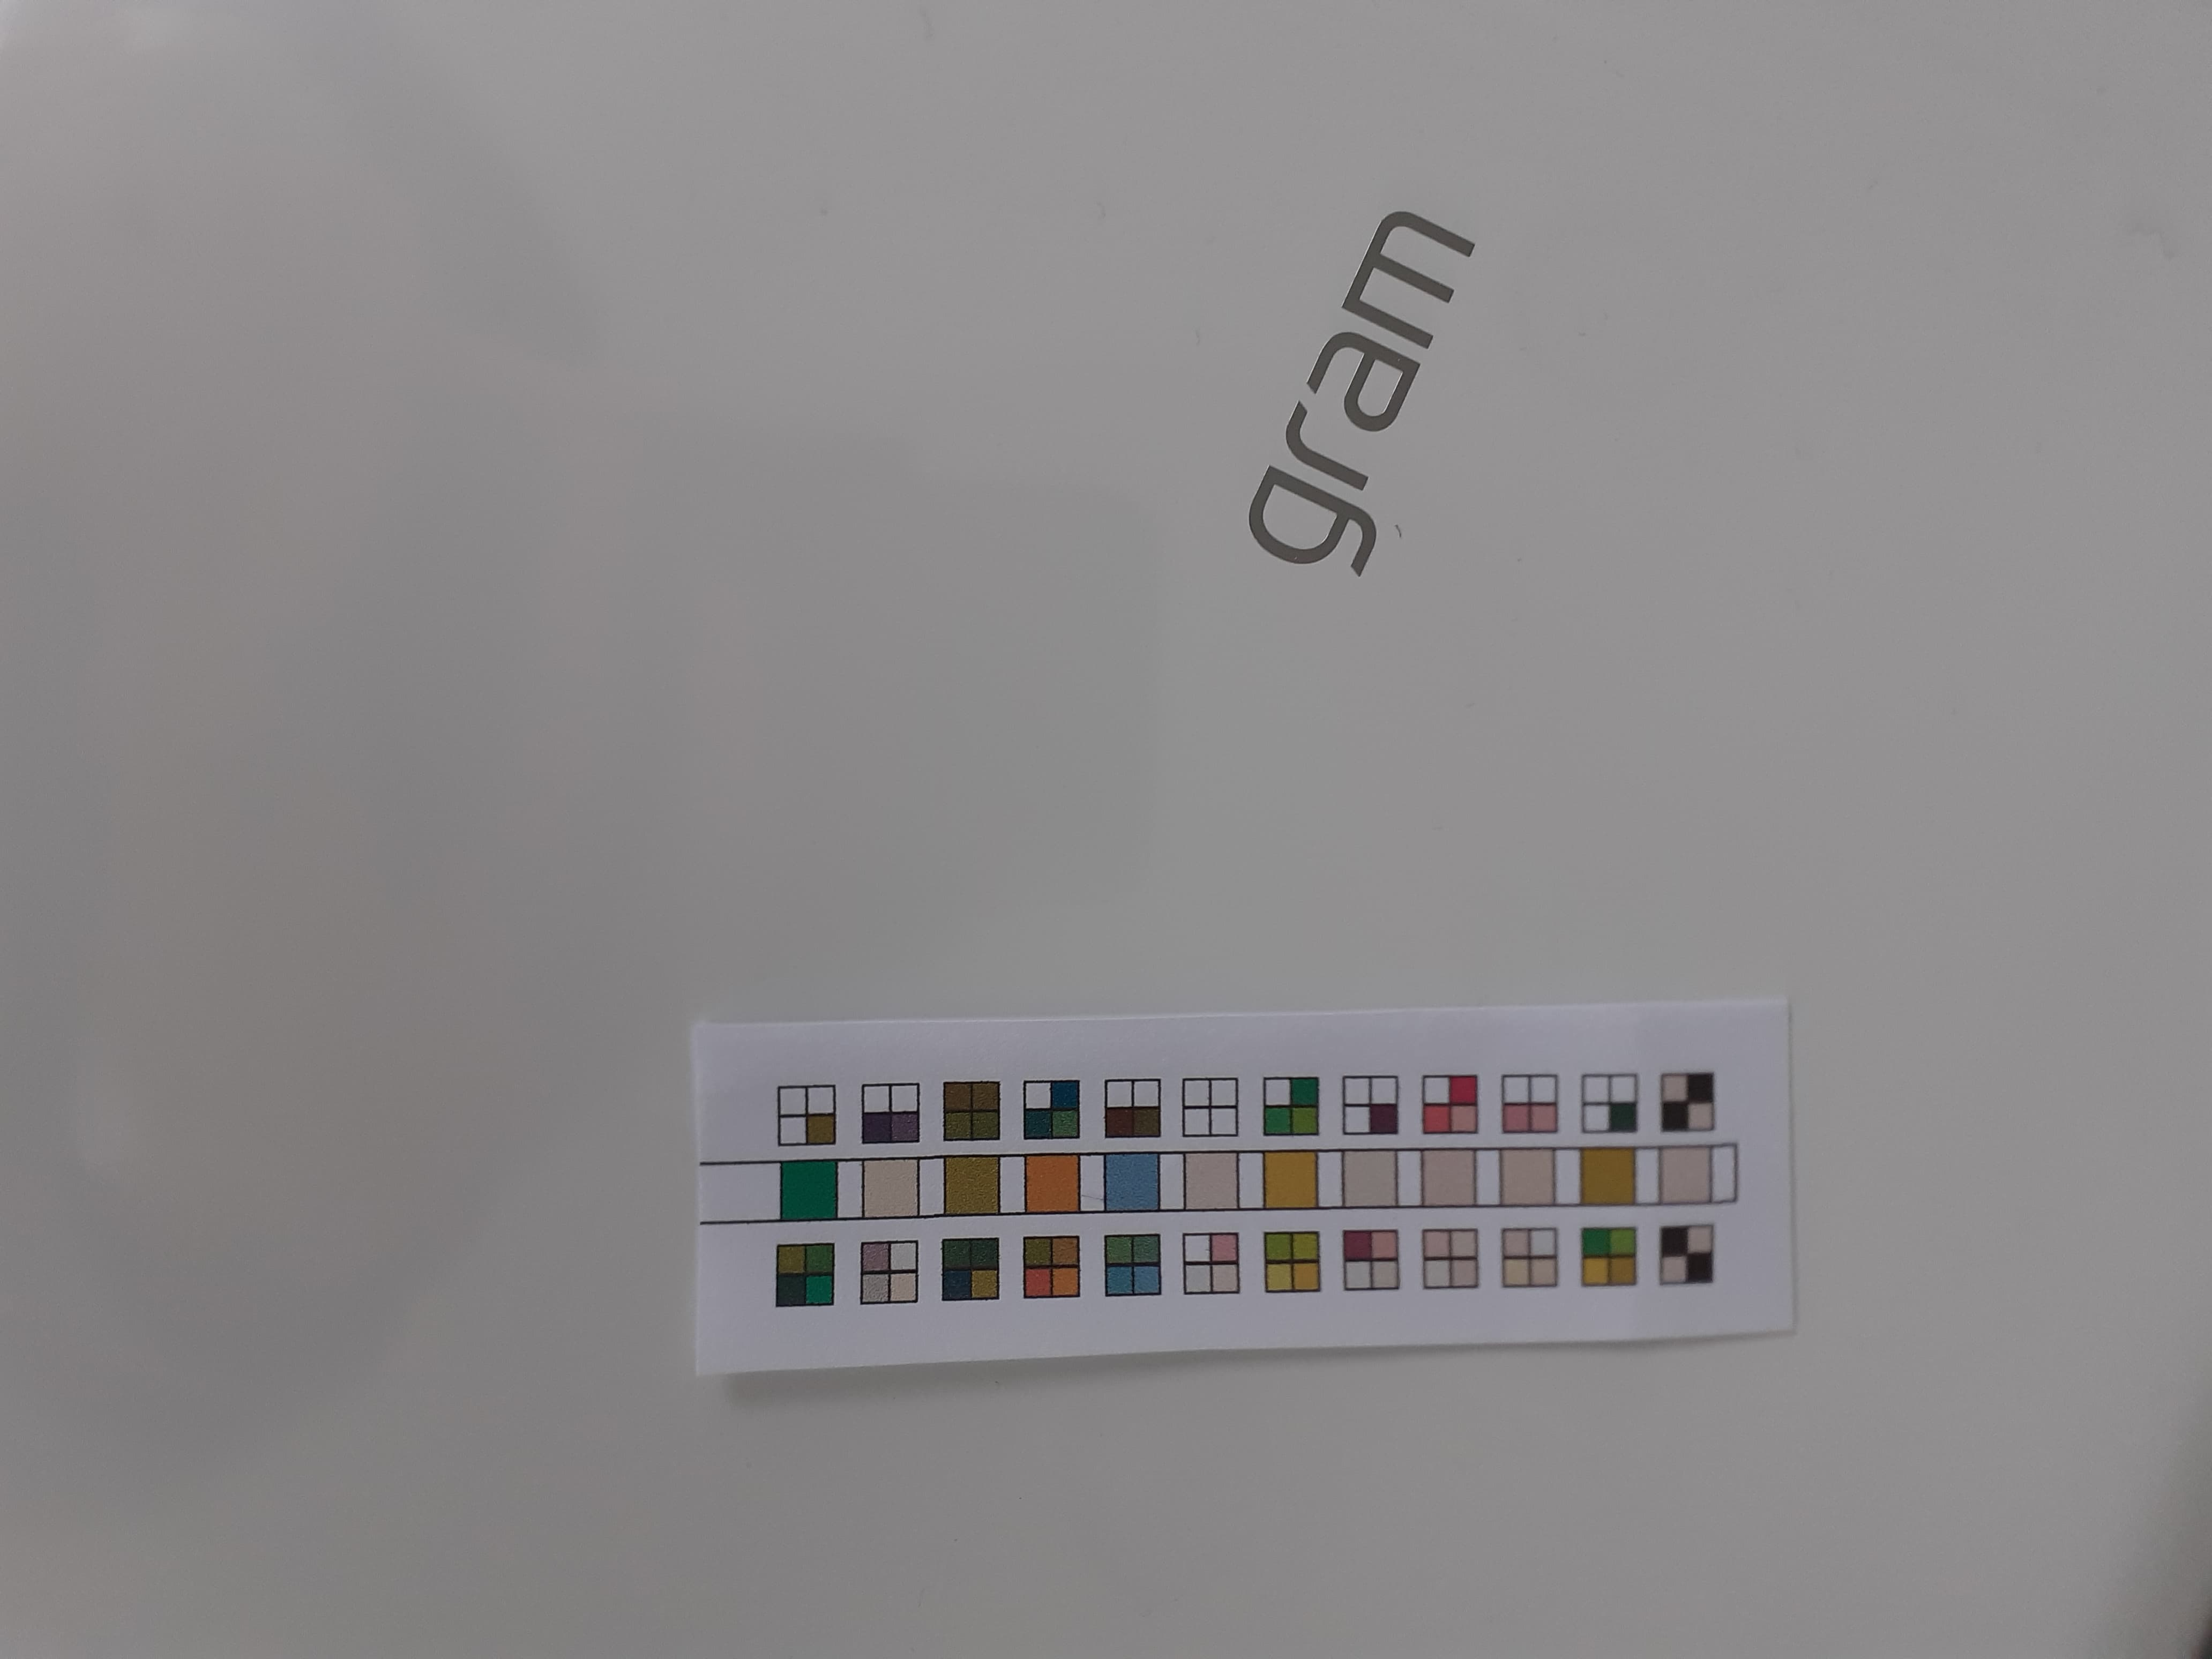tester: (697, 1021, 1791, 1342)
